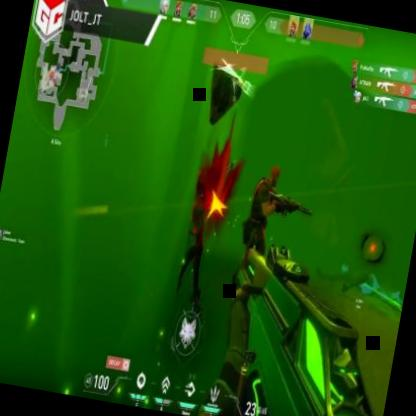enemy: (230, 164, 302, 308)
enemy_head: (268, 166, 282, 190)
